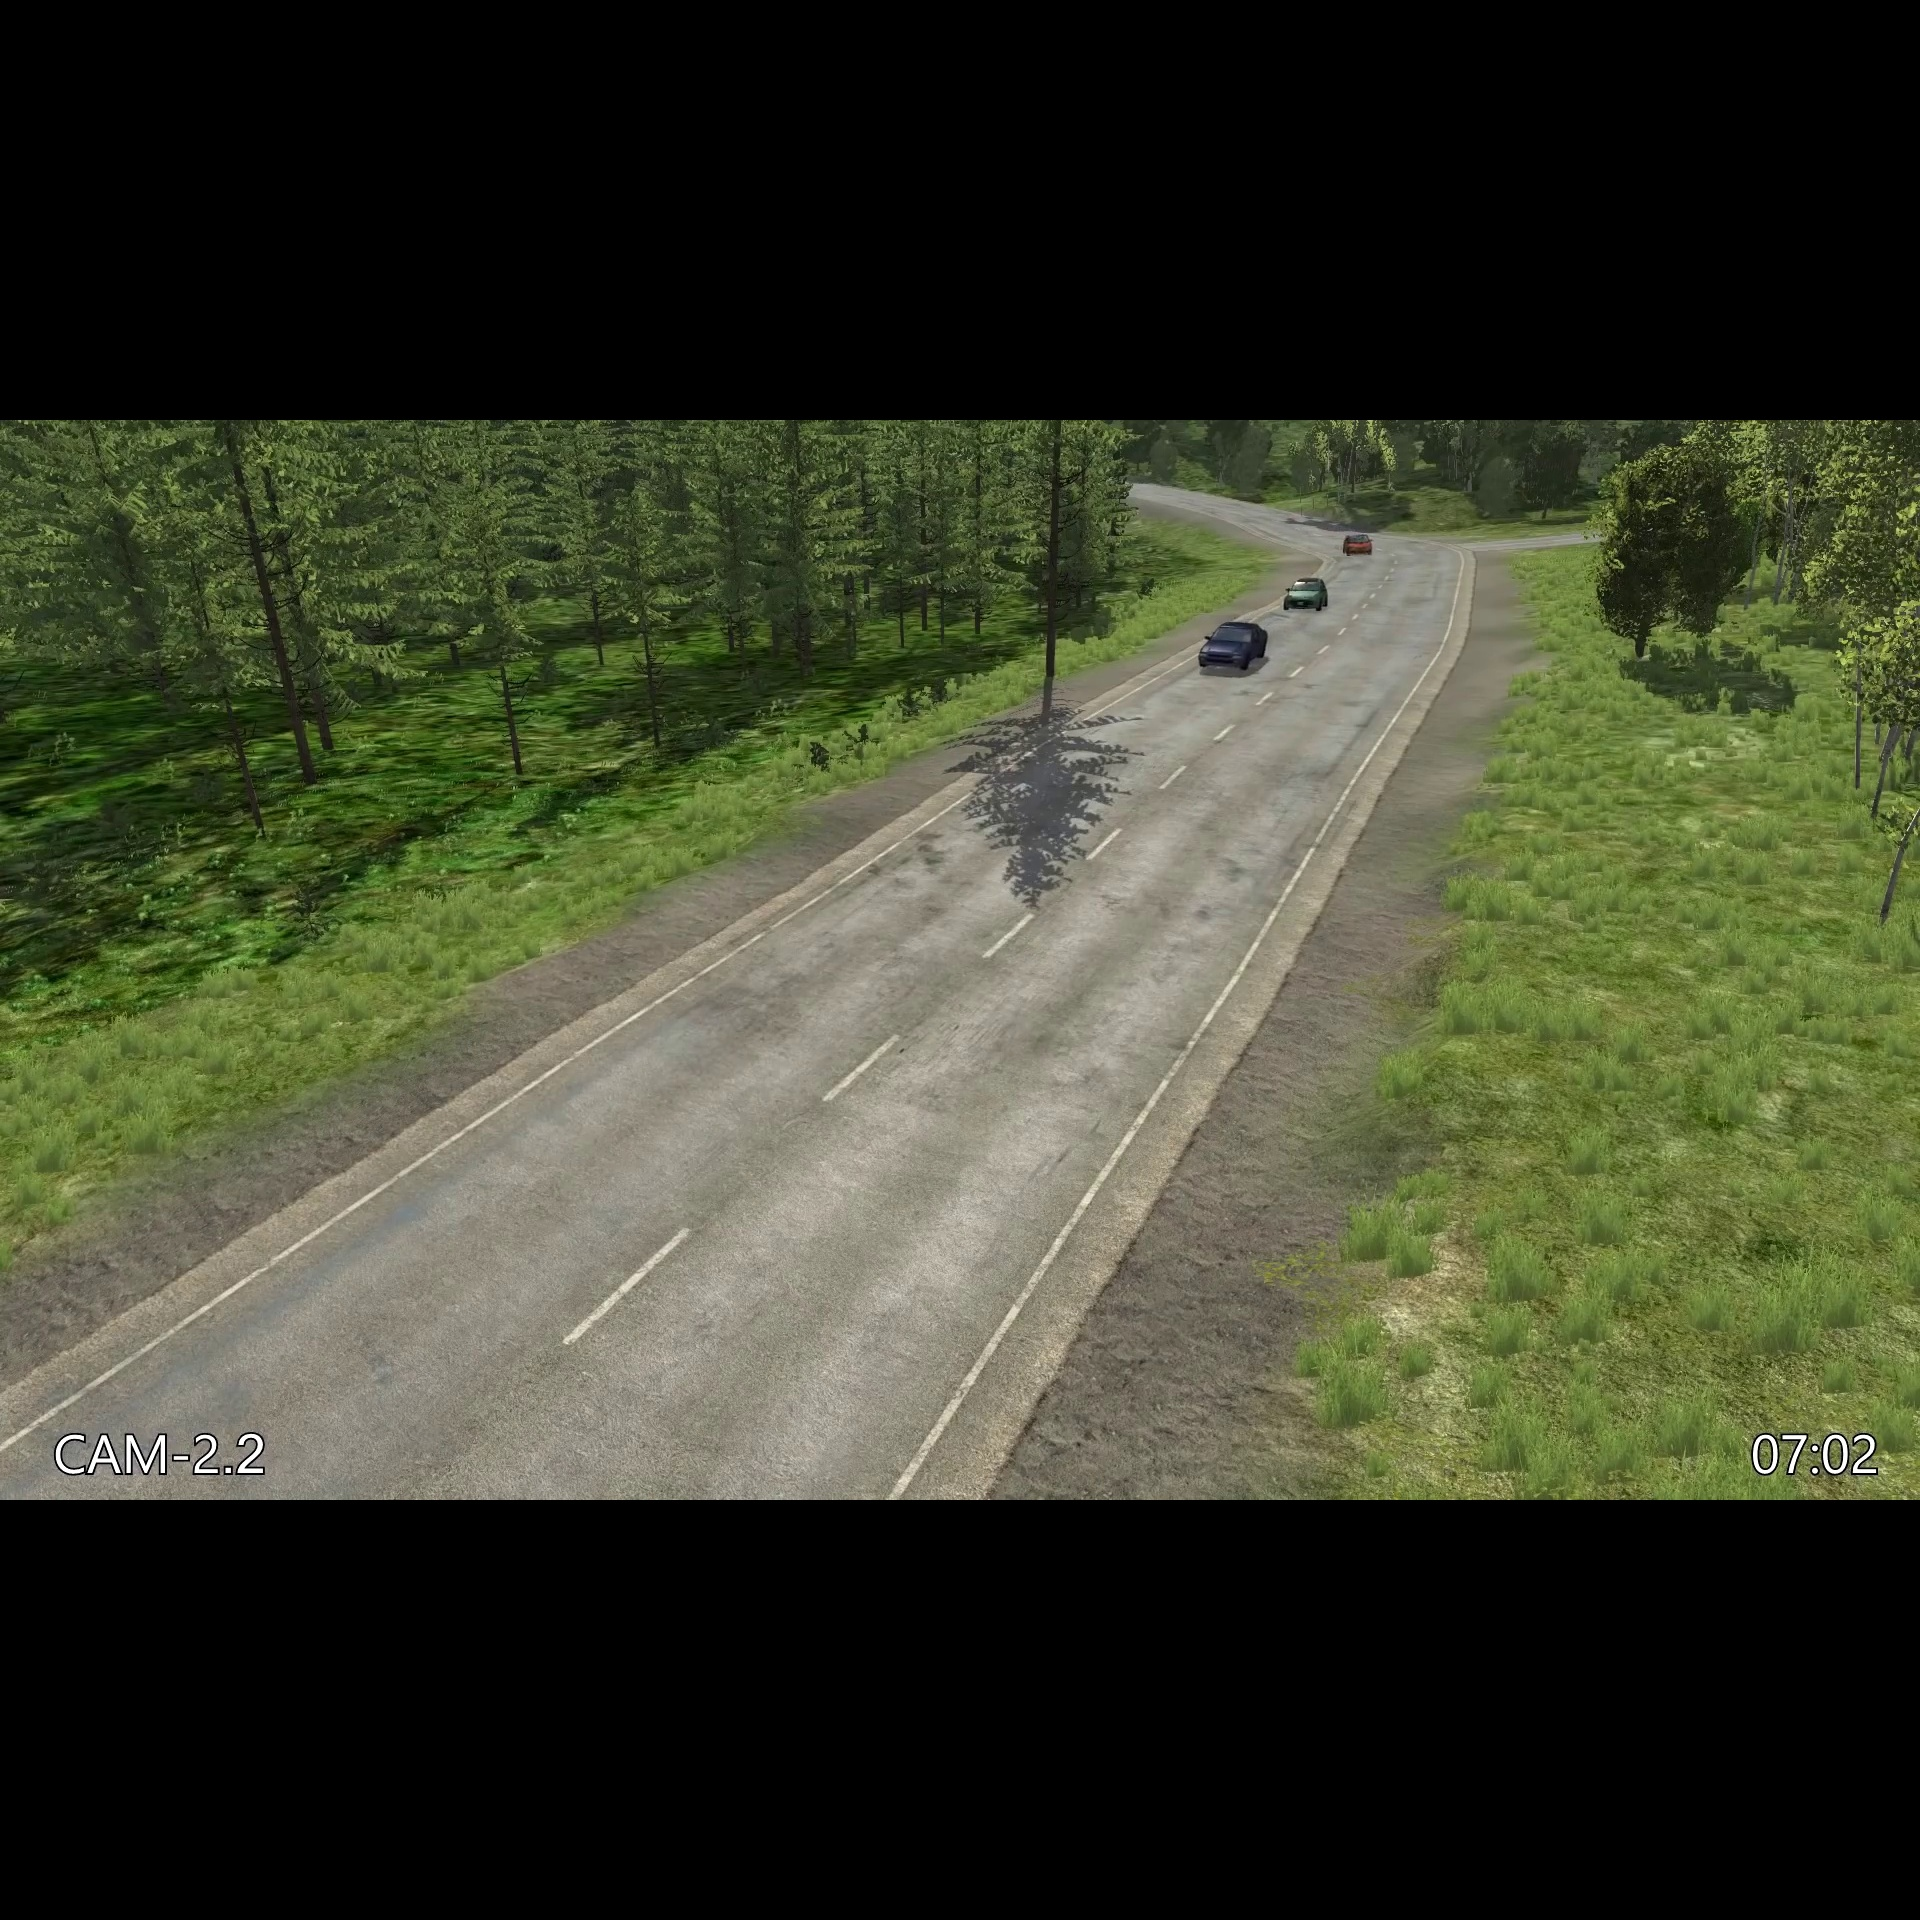vehicle: (1196, 615, 1271, 675), (1276, 573, 1333, 615), (1342, 529, 1373, 561)
